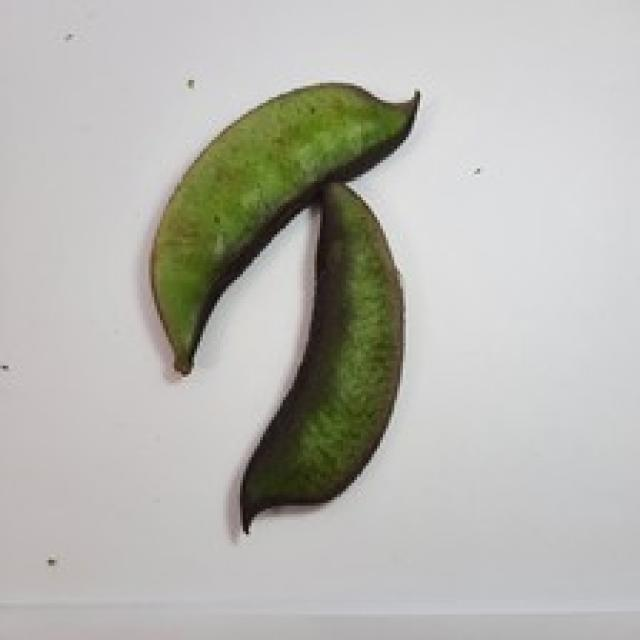Bean: (149, 77, 420, 374), (237, 177, 403, 534)
